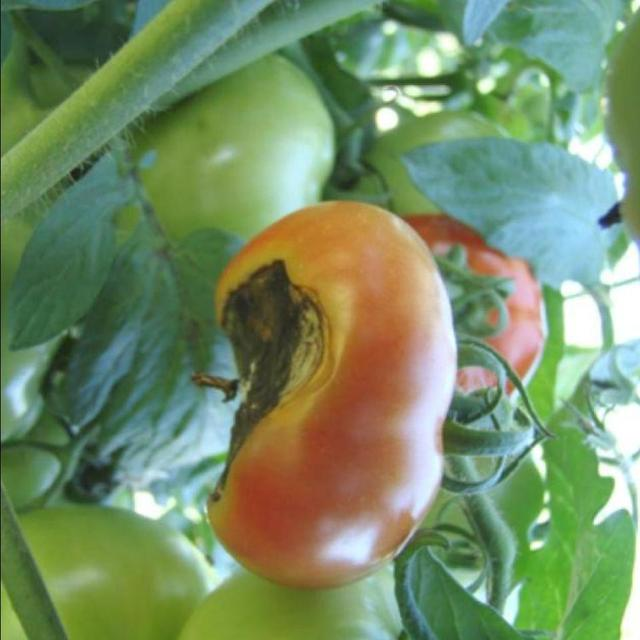Blossom End Rot Fruit: (135, 167, 220, 353)
